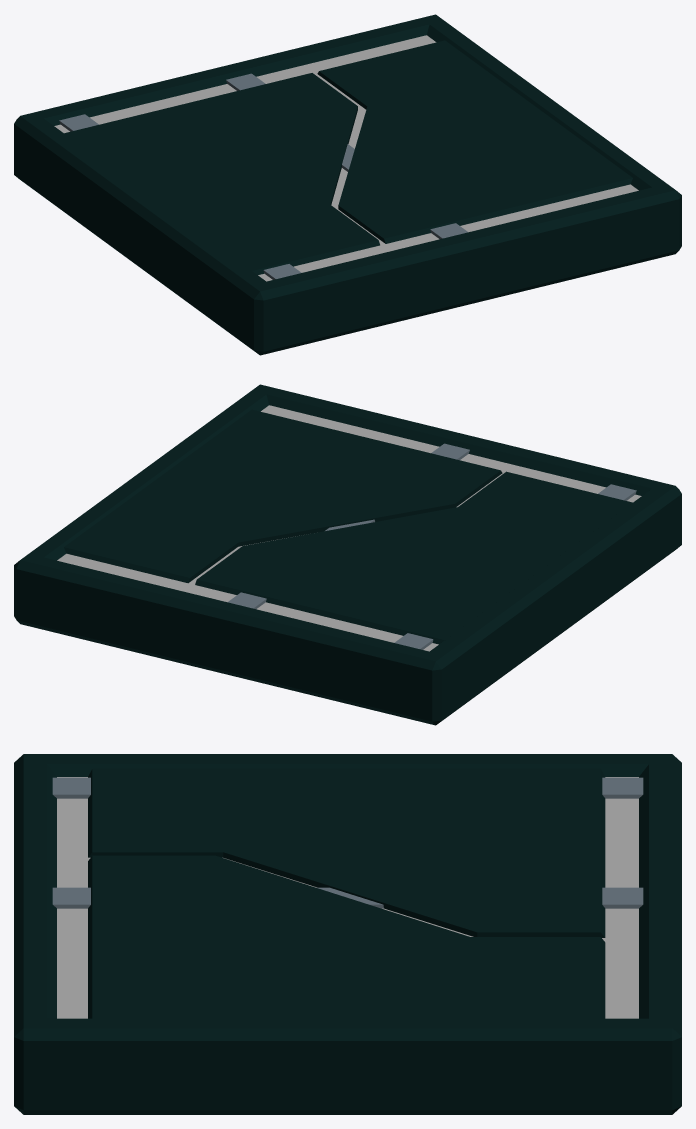
Rendered from Platform.fbx.
3 views of the same model, one above another, from view 1: azimuth 30°, elevation 25°; view 2: azimuth 150°, elevation 25°; view 3: azimuth 270°, elevation 25° (orthographic). The views are drawn at different scales.
Visible parts, largest first — view 1: Platform; view 2: Platform; view 3: Platform.
Boxes of the visible parts, x1=… form: Platform: x1=14, y1=14, x2=681, y2=355; Platform: x1=14, y1=384, x2=681, y2=725; Platform: x1=14, y1=754, x2=681, y2=1114.
Bounding box in the file's own units: 9.98 × 1.43 × 9.98.
